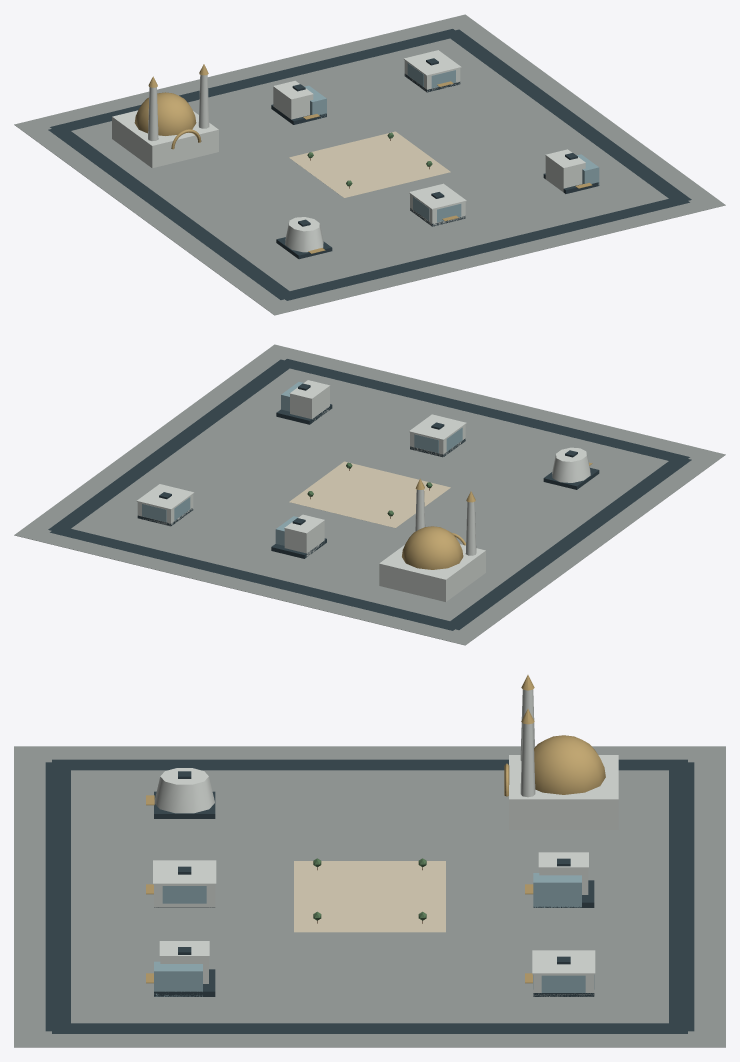
The model's file is GC-TILE-16-12.glb.
The picture shows the model from 3 angles, top to bottom: view 1: azimuth 30°, elevation 25°; view 2: azimuth 150°, elevation 25°; view 3: azimuth 270°, elevation 25°; orthographic projection. The views are drawn at different scales.
Parts seen in each view (by area): view 1: GC-TILE-16-12-paving, GC-TILE-16-12-dark, GC-TILE-16-12-white, GC-TILE-16-12-ivory, GC-TILE-16-12-gold, GC-TILE-16-12-glass; view 2: GC-TILE-16-12-paving, GC-TILE-16-12-dark, GC-TILE-16-12-white, GC-TILE-16-12-ivory, GC-TILE-16-12-gold, GC-TILE-16-12-glass; view 3: GC-TILE-16-12-paving, GC-TILE-16-12-dark, GC-TILE-16-12-white, GC-TILE-16-12-ivory, GC-TILE-16-12-glass, GC-TILE-16-12-gold.
Part boxes in pixels (bbox=[...]): GC-TILE-16-12-paving: bbox=[14, 14, 725, 315]; GC-TILE-16-12-dark: bbox=[48, 29, 691, 300]; GC-TILE-16-12-white: bbox=[112, 50, 585, 252]; GC-TILE-16-12-ivory: bbox=[289, 131, 450, 197]; GC-TILE-16-12-gold: bbox=[134, 64, 592, 253]; GC-TILE-16-12-glass: bbox=[304, 63, 599, 222]; GC-TILE-16-12-paving: bbox=[14, 344, 725, 645]; GC-TILE-16-12-dark: bbox=[48, 359, 691, 630]; GC-TILE-16-12-white: bbox=[136, 380, 590, 601]; GC-TILE-16-12-ivory: bbox=[289, 461, 450, 527]; GC-TILE-16-12-gold: bbox=[402, 462, 592, 569]; GC-TILE-16-12-glass: bbox=[142, 382, 462, 545]; GC-TILE-16-12-paving: bbox=[14, 746, 725, 1047]; GC-TILE-16-12-dark: bbox=[45, 759, 694, 1033]; GC-TILE-16-12-white: bbox=[153, 689, 618, 996]; GC-TILE-16-12-ivory: bbox=[294, 861, 445, 932]; GC-TILE-16-12-glass: bbox=[154, 873, 594, 996]; GC-TILE-16-12-gold: bbox=[146, 675, 605, 983].
Size of the model in its own units: 338 by 61.18 by 338.
